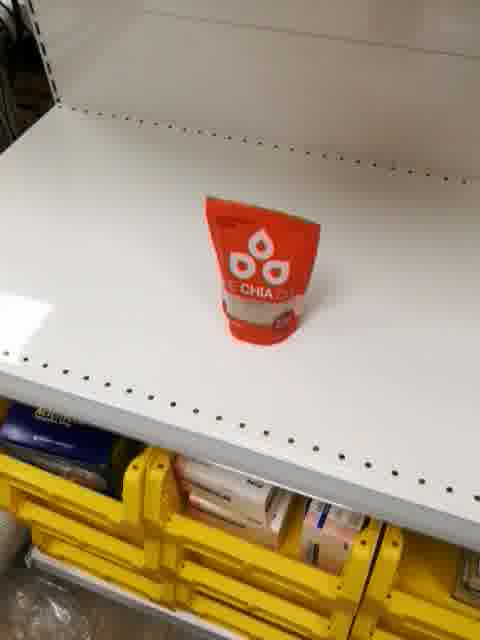whitechia: (201, 192, 323, 349)
